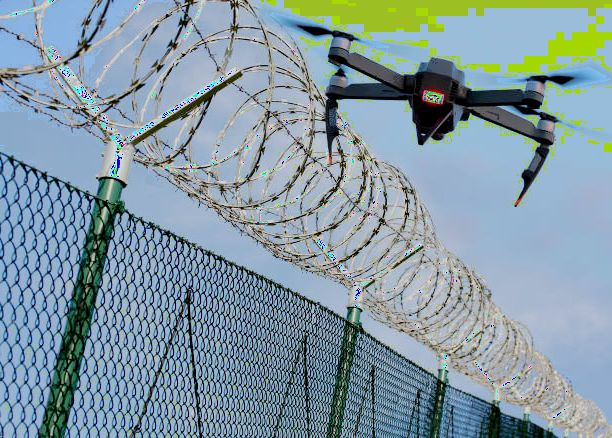Drone: (273, 9, 606, 209)
